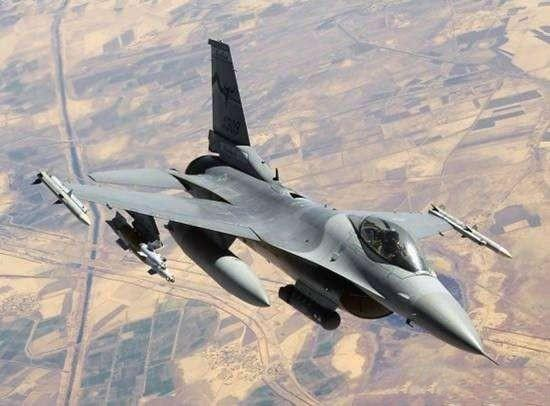airplane: (22, 38, 517, 373)
